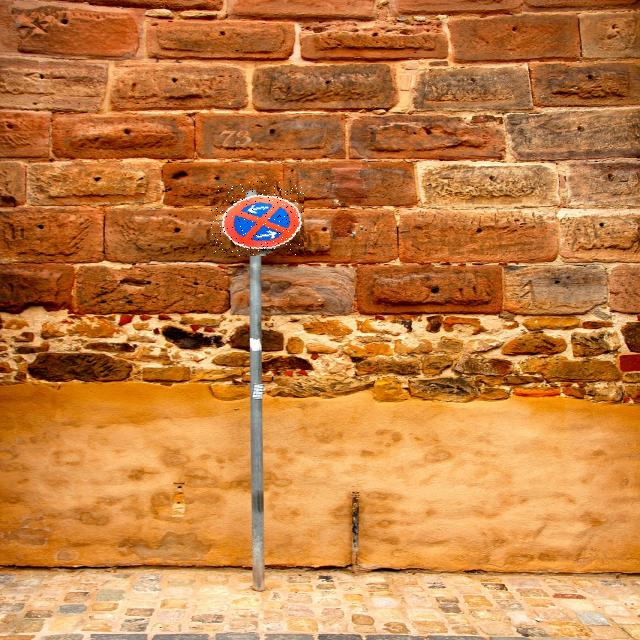no stopping: (211, 181, 304, 256)
